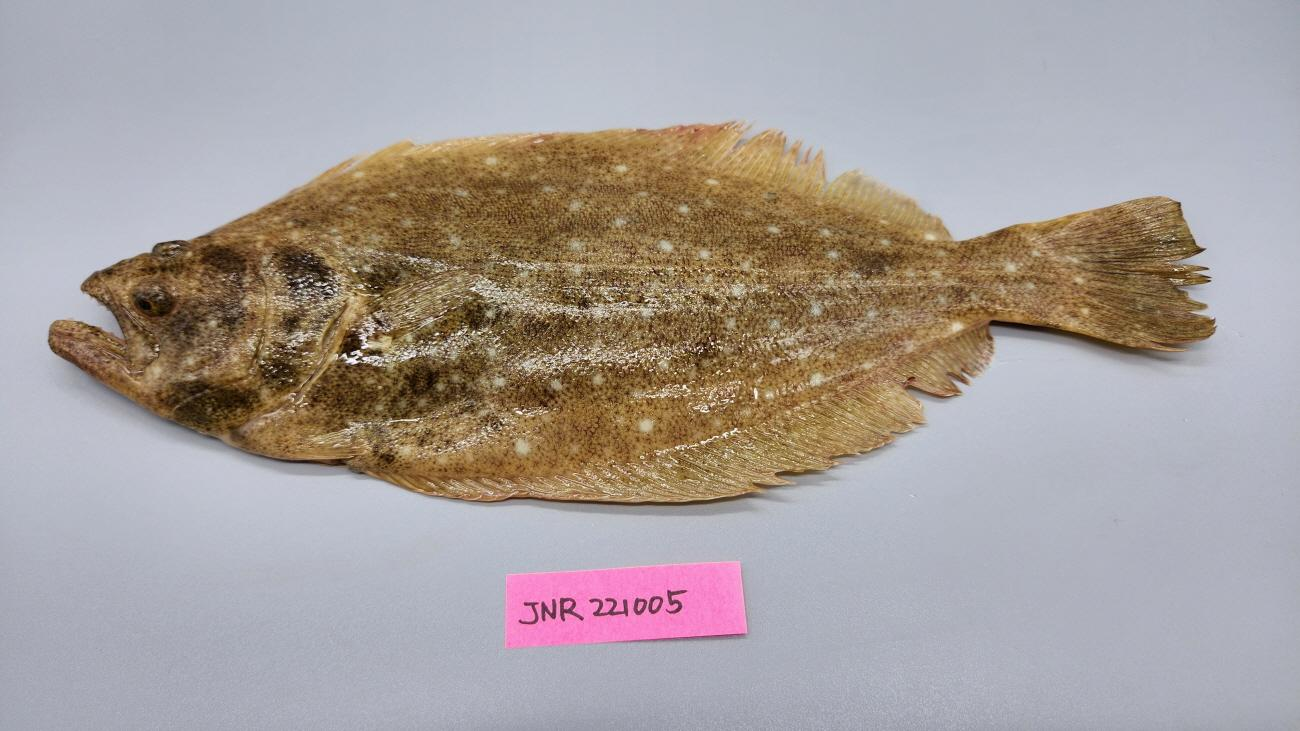POOUN: (49, 119, 1218, 507)
